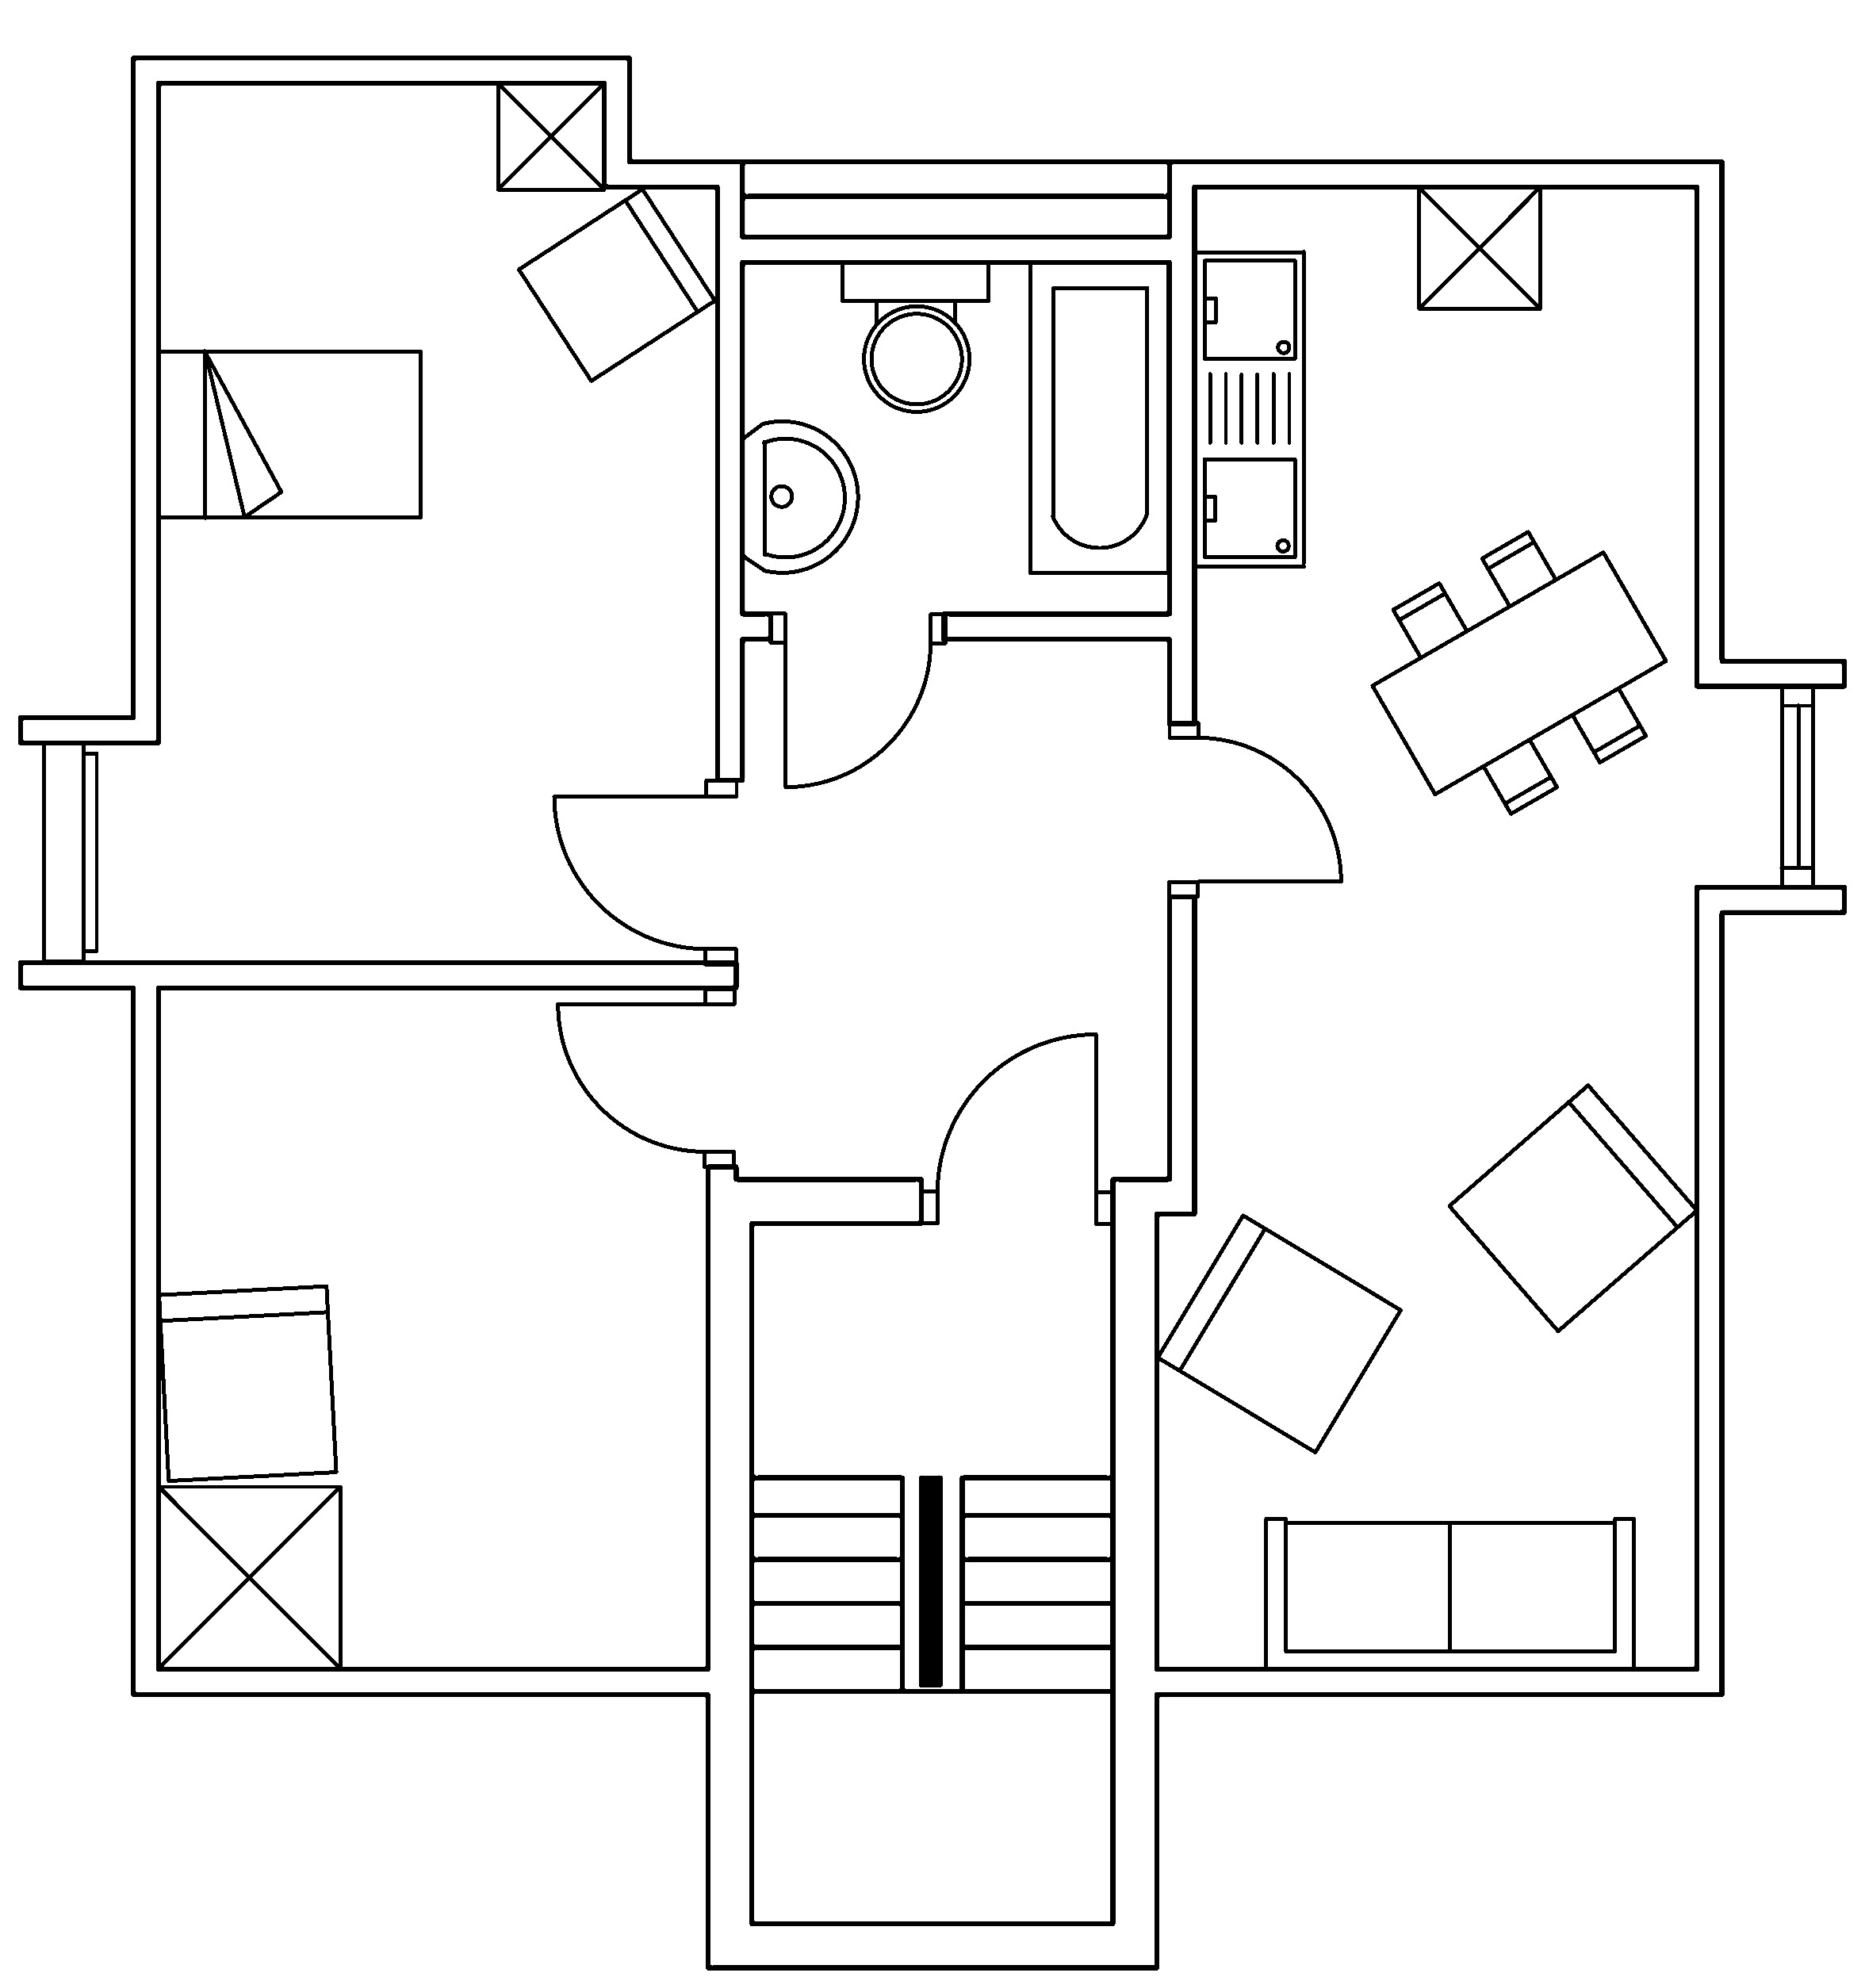bed: (154, 347, 424, 521)
coffee_table: (154, 1481, 342, 1671), (1416, 182, 1542, 310), (494, 79, 606, 191)
dining_table: (1369, 528, 1669, 815)
large_sink: (840, 258, 990, 412)
large_sofa: (1262, 1515, 1637, 1672)
small_sink: (740, 419, 859, 573)
small_sofa: (1446, 1082, 1698, 1332), (1153, 1211, 1404, 1455), (515, 186, 717, 382), (156, 1282, 338, 1483)
tub: (1027, 258, 1171, 575)
twin_sink: (1192, 247, 1308, 570)
